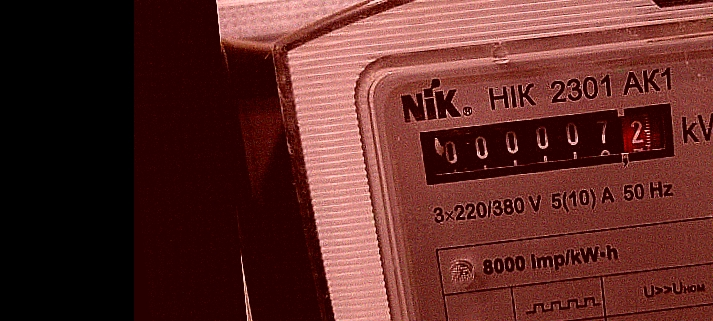0: (502, 127, 523, 156), (472, 132, 492, 161), (564, 118, 582, 148), (442, 137, 461, 165), (534, 122, 551, 150)
2: (629, 116, 647, 146)
7: (593, 116, 612, 147)
screen: (411, 93, 689, 191)
